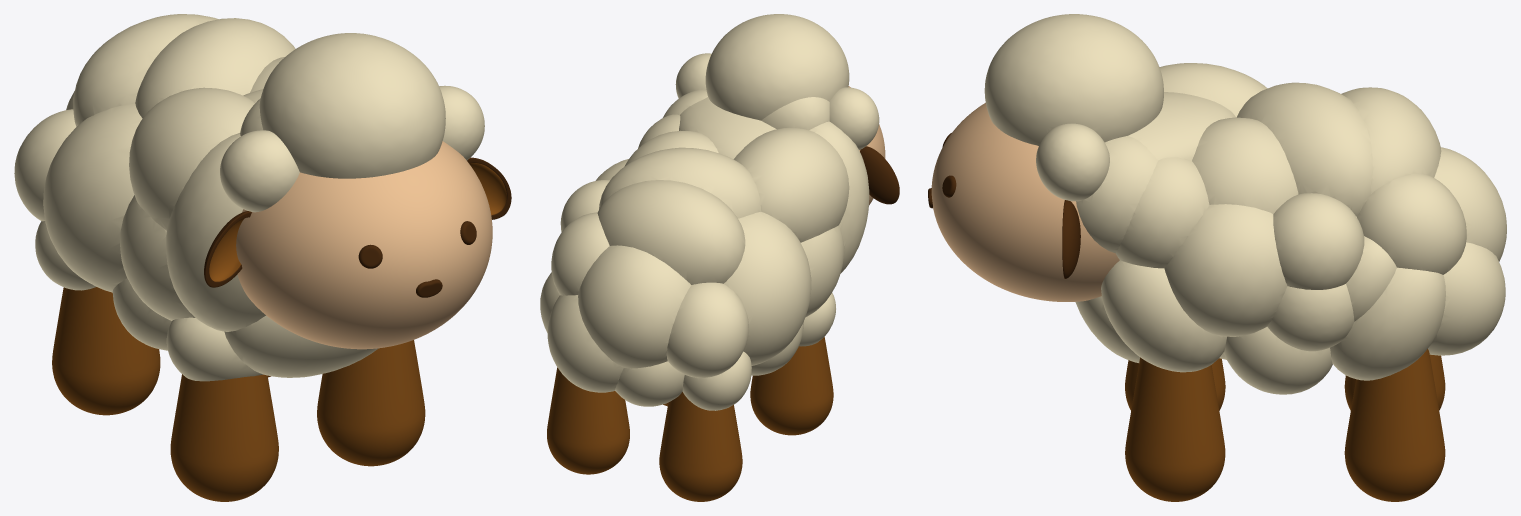
The model's file is Sheep.fbx.
3 views of the same model, side by side, from view 1: azimuth 30°, elevation 25°; view 2: azimuth 150°, elevation 25°; view 3: azimuth 270°, elevation 25° (orthographic). The views are drawn at different scales.
Visible parts, largest first — view 1: Body, Head, Front Right Foot, Front Left Foot, Back Right Foot, Ears, Eyes; view 2: Body, Back Right Foot, Back Left Foot, Front Right Foot, Ears; view 3: Body, Head, Front Left Foot, Back Left Foot, Ears, Front Right Foot, Back Right Foot.
Part boxes in pixels (bbox=[...]): Body: bbox=[14, 14, 484, 381]; Head: bbox=[236, 141, 492, 349]; Front Right Foot: bbox=[170, 374, 278, 501]; Front Left Foot: bbox=[317, 340, 425, 466]; Back Right Foot: bbox=[52, 287, 160, 415]; Ears: bbox=[204, 157, 511, 287]; Eyes: bbox=[358, 221, 476, 268]; Body: bbox=[540, 14, 879, 410]; Back Right Foot: bbox=[659, 392, 742, 501]; Back Left Foot: bbox=[547, 367, 629, 474]; Front Right Foot: bbox=[750, 337, 833, 435]; Ears: bbox=[860, 146, 899, 204]; Body: bbox=[984, 14, 1506, 394]; Head: bbox=[931, 103, 1119, 301]; Front Left Foot: bbox=[1125, 357, 1225, 501]; Back Left Foot: bbox=[1344, 349, 1445, 501]; Ears: bbox=[1062, 200, 1080, 278]; Front Right Foot: bbox=[1125, 358, 1225, 410]; Back Right Foot: bbox=[1344, 354, 1445, 410].
Bounding box in the file's own units: 68.67 × 97.09 × 115.
